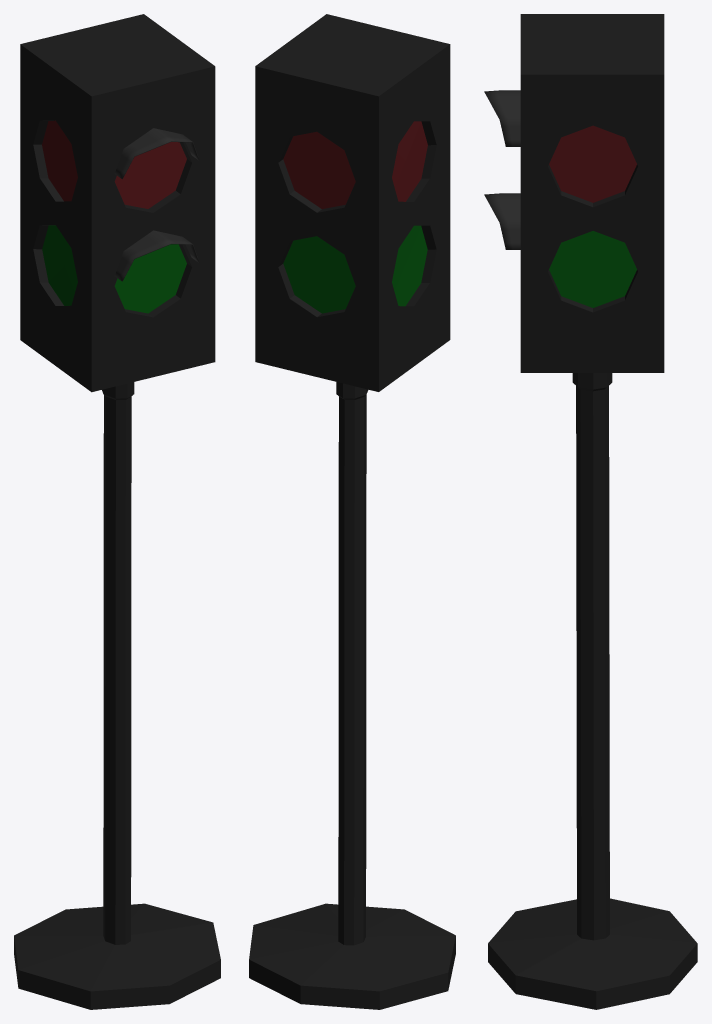
File: SEMAFOROIZARO.fbx
The picture shows the model from 3 angles, left to right: view 1: azimuth 30°, elevation 25°; view 2: azimuth 150°, elevation 25°; view 3: azimuth 270°, elevation 25°; orthographic projection.
Parts seen in each view (by area): view 1: Cube, Cube.001, Cube.003, Cube.004, Cube.002; view 2: Cube, Cube.003, Cube.001; view 3: Cube, Cube.003, Cube.001, Cube.002, Cube.004.
Part boxes in pixels (bbox=[...]): Cube: bbox=[14, 14, 220, 1009]; Cube.001: bbox=[42, 225, 186, 313]; Cube.003: bbox=[42, 120, 186, 208]; Cube.004: bbox=[115, 230, 199, 281]; Cube.002: bbox=[115, 128, 199, 179]; Cube: bbox=[249, 14, 455, 1009]; Cube.003: bbox=[283, 121, 427, 208]; Cube.001: bbox=[283, 225, 427, 313]; Cube: bbox=[488, 14, 697, 1009]; Cube.003: bbox=[549, 125, 636, 202]; Cube.001: bbox=[549, 231, 636, 307]; Cube.002: bbox=[484, 90, 520, 146]; Cube.004: bbox=[484, 193, 520, 249].
Size of the model in its own units: 245 by 1095 by 231.
